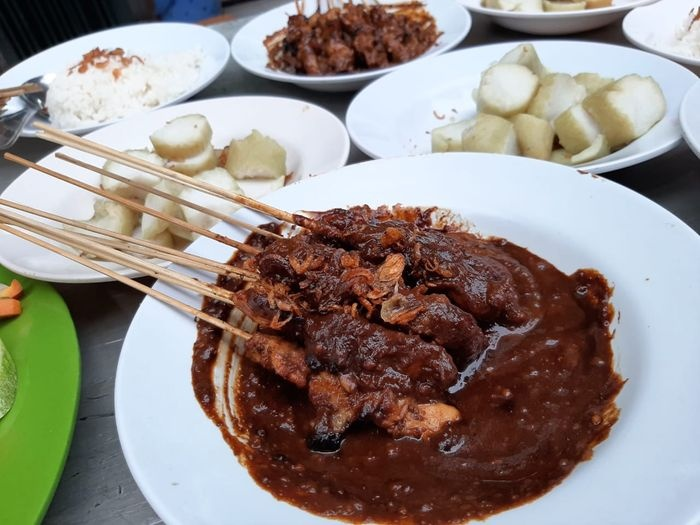sate_madura: (185, 181, 532, 449)
